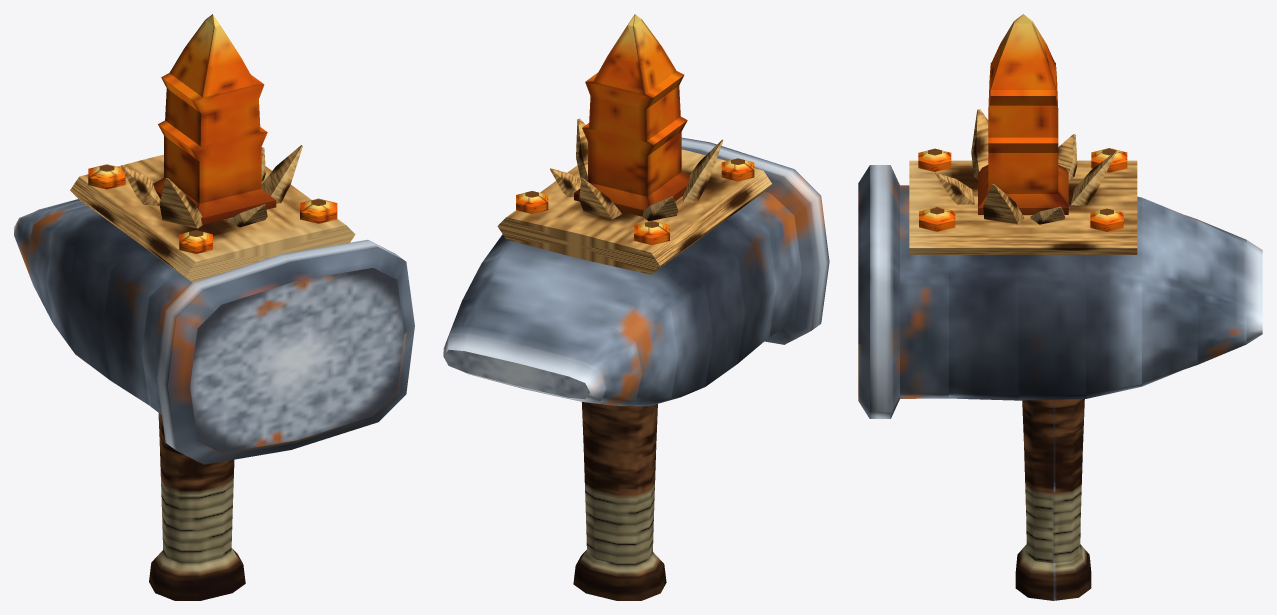
File: railspike.gltf
The picture shows the model from 3 angles, left to right: view 1: azimuth 30°, elevation 25°; view 2: azimuth 150°, elevation 25°; view 3: azimuth 270°, elevation 25°; orthographic projection. The views are drawn at different scales.
Parts seen in each view (by area): view 1: Railspike; view 2: Railspike; view 3: Railspike.
Part boxes in pixels (left/top/right/bottom): Railspike: left=14, top=14, right=414, bottom=600; Railspike: left=443, top=14, right=829, bottom=600; Railspike: left=858, top=14, right=1262, bottom=600.
Size of the model in its own units: 12 by 27.1 by 17.4.
Materials: 1 (1 with a texture image).
